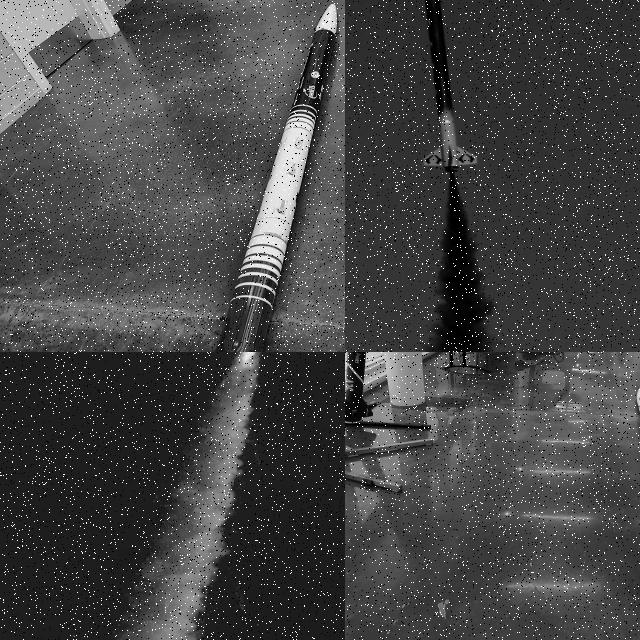Rocket: (214, 3, 337, 352), (417, 0, 482, 173)
